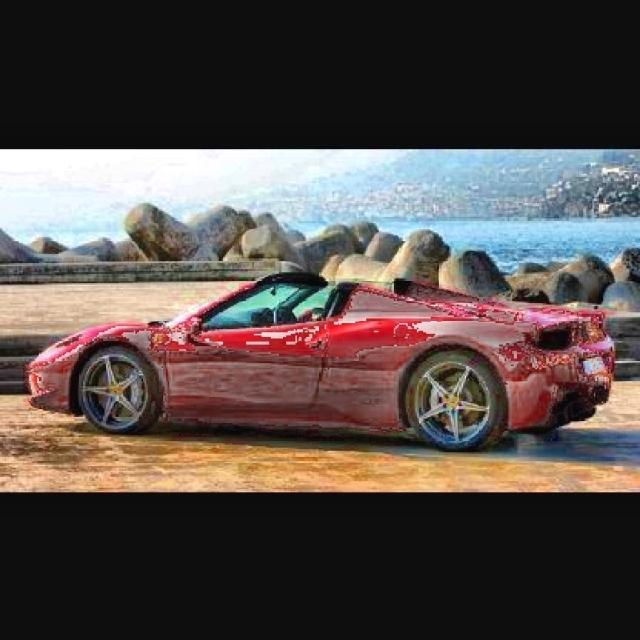maroon: (28, 272, 622, 454)
